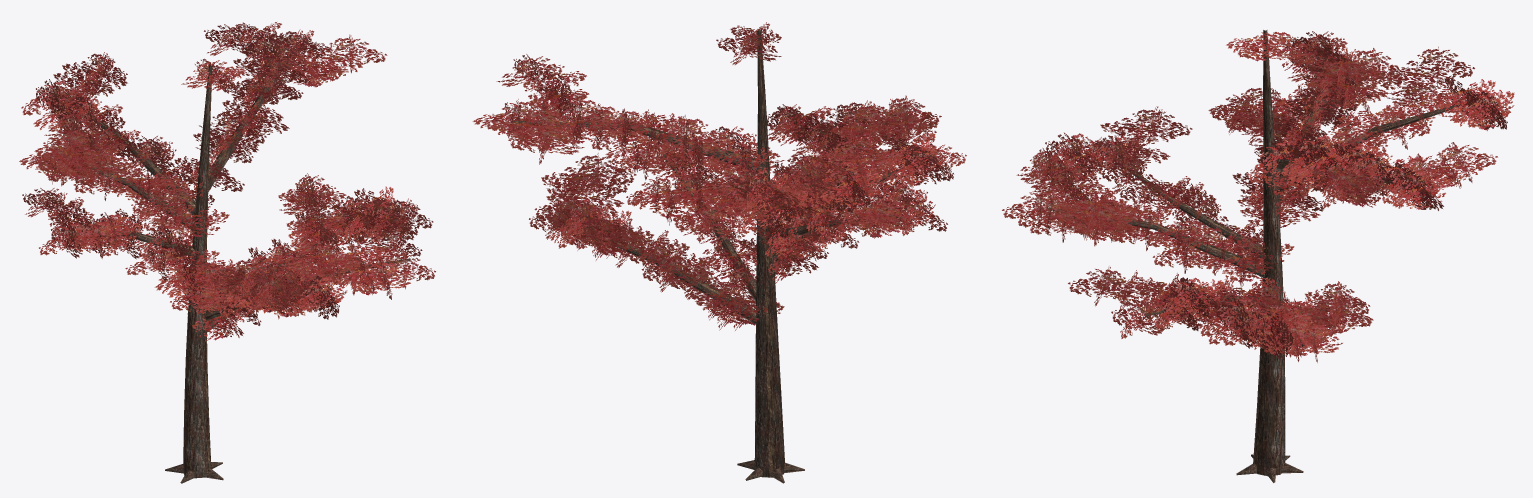
Rendered from tree_3d_04_red_lod1.glb.
3 views of the same model, side by side, from view 1: azimuth 30°, elevation 25°; view 2: azimuth 150°, elevation 25°; view 3: azimuth 270°, elevation 25° (orthographic). The views are drawn at different scales.
Visible parts, largest first — view 1: foliage_cards, wood_geometry; view 2: foliage_cards, wood_geometry; view 3: foliage_cards, wood_geometry.
Boxes of the visible parts, x1,y1,x2,y2 form: foliage_cards: (19, 22, 435, 341); wood_geometry: (66, 46, 410, 483); foliage_cards: (472, 22, 966, 330); wood_geometry: (511, 30, 903, 483); foliage_cards: (1002, 31, 1514, 362); wood_geometry: (1047, 30, 1473, 482).
Bounding box in the file's own units: 8.12 × 8.31 × 8.72.
2 materials, 2 textured.
